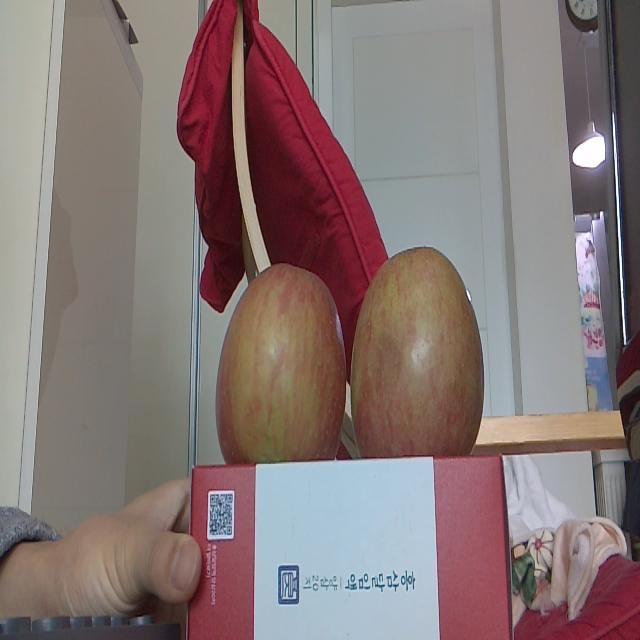apple: (349, 245, 484, 458), (211, 261, 348, 461)
